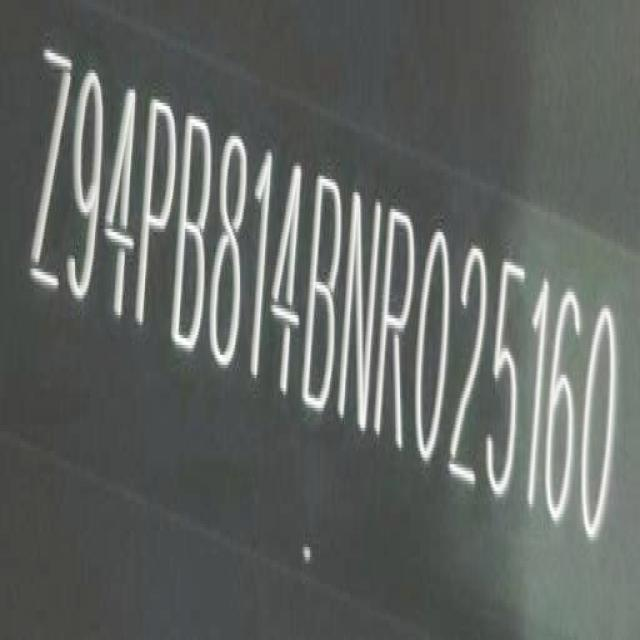0: (578, 297, 626, 547), (408, 219, 454, 472)
1: (523, 272, 550, 518), (247, 146, 274, 384)
2: (447, 238, 492, 493)
4: (100, 81, 144, 322), (269, 156, 309, 402)
5: (486, 250, 534, 505)
6: (542, 279, 587, 528)
8: (204, 128, 251, 377)
9: (62, 62, 107, 310)
B: (301, 168, 346, 418), (173, 105, 216, 359)
N: (338, 181, 385, 438)
P: (133, 89, 181, 341)
R: (373, 197, 421, 455)
Z: (24, 42, 75, 300)
